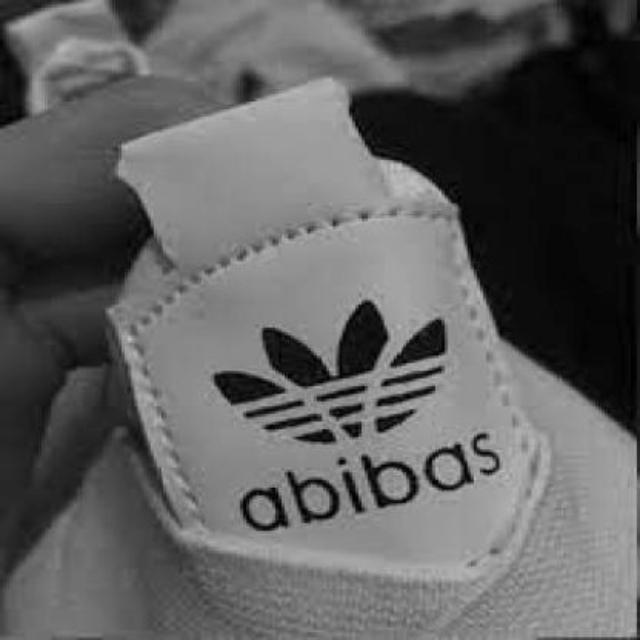ADIDAS_fake: (197, 270, 518, 538)
